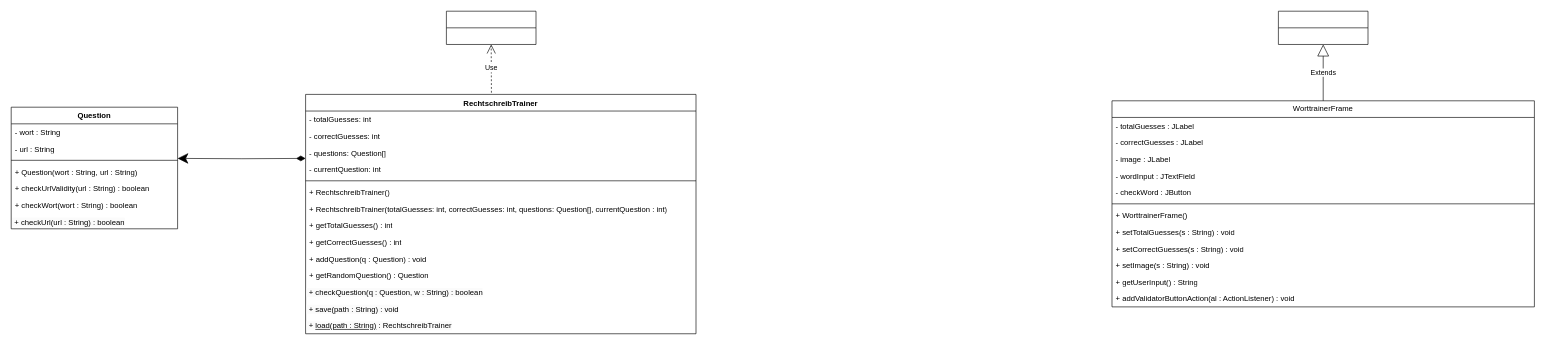
Image size: 1546x345. Some labels were removed from this diagram. Here are the shapes that lost their labels. From the top down, the box of each, then its label:
(446, 11, 536, 44): JSON
(1278, 11, 1368, 44): JFrame
